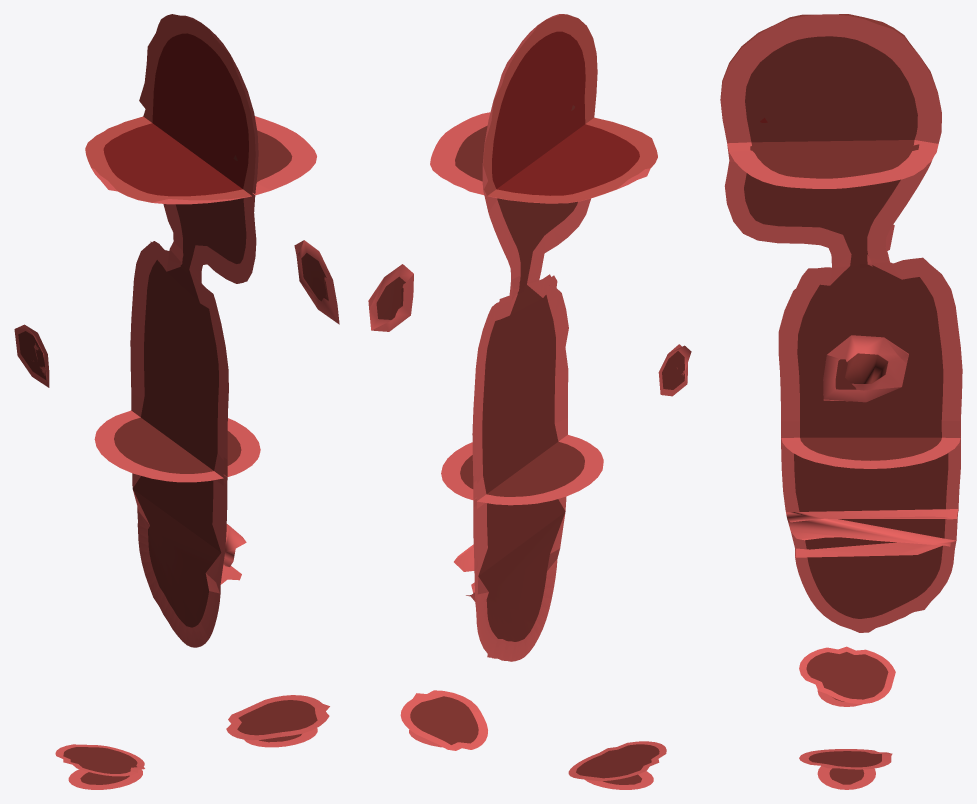
File: Grunt_Blursed.fbx
3 renders of one model, left to right at view 1: azimuth 30°, elevation 25°; view 2: azimuth 150°, elevation 25°; view 3: azimuth 270°, elevation 25°, orthographic. The views are drawn at different scales.
Visible parts, largest first — view 1: Hair(Grunt).014, Hair(Grunt).007, Hair(Grunt).002, Hair(Grunt).006, Hair(Grunt).004, Hair(Grunt).003, Hair(Grunt).001, Hair(Grunt).012, Hair(Grunt).005, Hair(Grunt).015; view 2: Hair(Grunt).014, Hair(Grunt).007, Hair(Grunt).002, Hair(Grunt).006, Hair(Grunt).003, Hair(Grunt).004, Hair(Grunt).001, Hair(Grunt).012, Hair(Grunt).005; view 3: Hair(Grunt).004, Hair(Grunt).003, Hair(Grunt).006, Hair(Grunt).002, Hair(Grunt).001, Hair(Grunt).014, Hair(Grunt).015, Hair(Grunt).007.
Boxes of the visible parts, left/top/right/bottom form: Hair(Grunt).014: left=25, top=161, right=253, bottom=481; Hair(Grunt).007: left=85, top=14, right=255, bottom=202; Hair(Grunt).002: left=55, top=439, right=223, bottom=776; Hair(Grunt).006: left=137, top=452, right=329, bottom=740; Hair(Grunt).004: left=152, top=143, right=339, bottom=476; Hair(Grunt).003: left=181, top=15, right=316, bottom=194; Hair(Grunt).001: left=296, top=240, right=339, bottom=320; Hair(Grunt).012: left=14, top=324, right=48, bottom=387; Hair(Grunt).005: left=68, top=769, right=142, bottom=789; Hair(Grunt).015: left=244, top=728, right=317, bottom=747; Hair(Grunt).014: left=476, top=164, right=687, bottom=504; Hair(Grunt).007: left=483, top=14, right=657, bottom=203; Hair(Grunt).002: left=476, top=465, right=666, bottom=781; Hair(Grunt).006: left=400, top=473, right=490, bottom=750; Hair(Grunt).003: left=430, top=14, right=574, bottom=194; Hair(Grunt).004: left=369, top=130, right=552, bottom=499; Hair(Grunt).001: left=368, top=264, right=413, bottom=330; Hair(Grunt).012: left=658, top=345, right=691, bottom=396; Hair(Grunt).005: left=585, top=771, right=653, bottom=789; Hair(Grunt).004: left=725, top=142, right=961, bottom=468; Hair(Grunt).003: left=720, top=14, right=941, bottom=188; Hair(Grunt).006: left=781, top=438, right=960, bottom=769; Hair(Grunt).002: left=781, top=436, right=960, bottom=703; Hair(Grunt).001: left=823, top=338, right=908, bottom=402; Hair(Grunt).014: left=724, top=143, right=962, bottom=435; Hair(Grunt).015: left=817, top=766, right=875, bottom=789; Hair(Grunt).007: left=720, top=14, right=941, bottom=141.
Size of the model in its own units: 516 by 1233 by 377.
